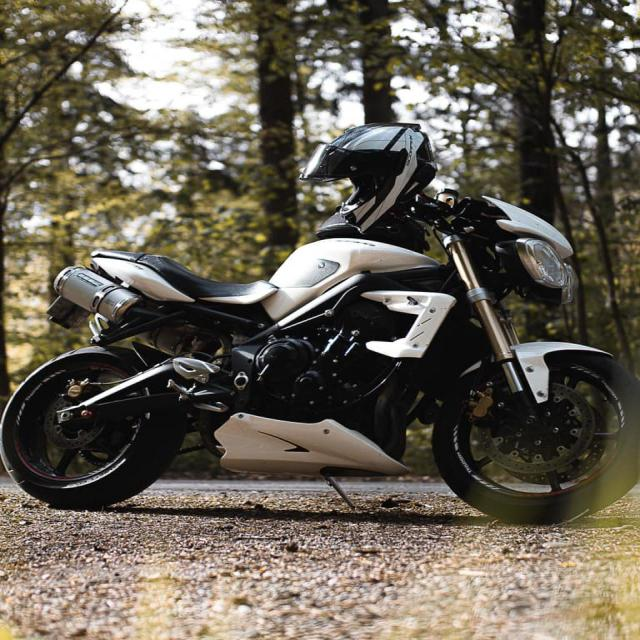Motorcycle: (1, 122, 640, 524)
